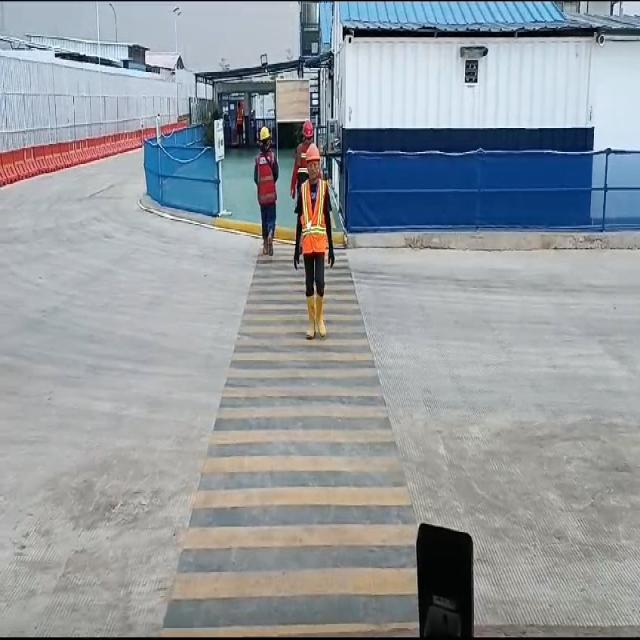gloves: (329, 245, 336, 272), (293, 252, 300, 271)
helmet: (302, 119, 315, 138), (305, 144, 320, 158), (260, 126, 270, 141)
safety_vest: (301, 181, 328, 254), (257, 158, 276, 203)
